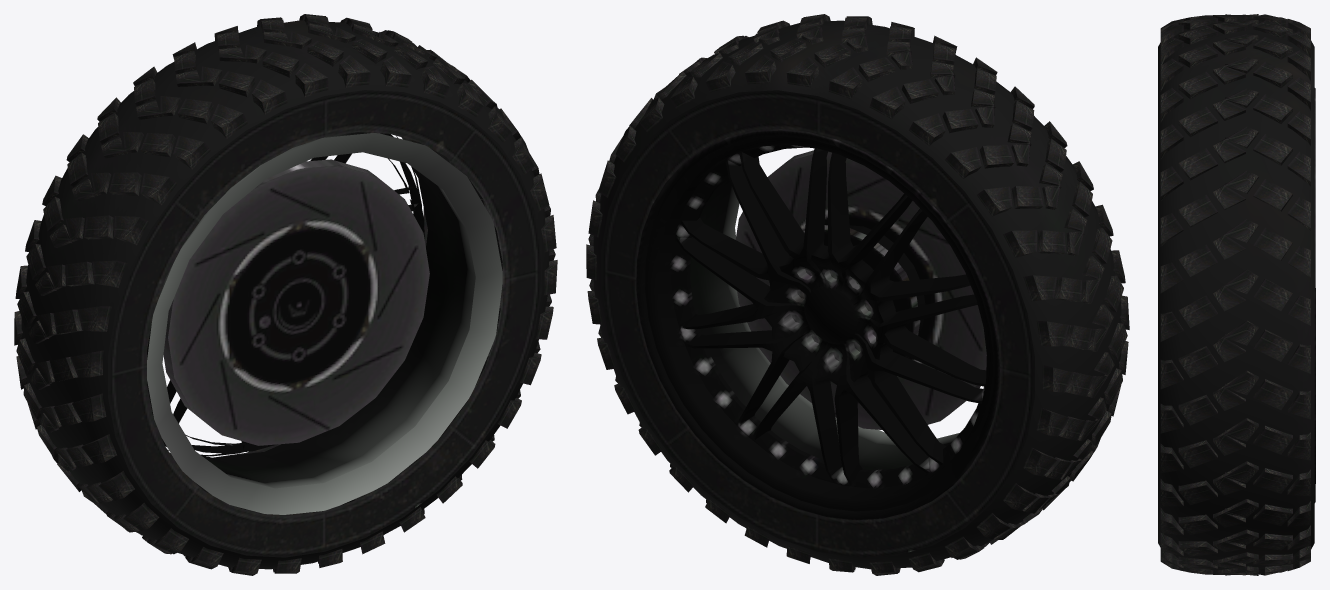
File: wheel.glb
3 renders of one model, left to right at view 1: azimuth 30°, elevation 25°; view 2: azimuth 150°, elevation 25°; view 3: azimuth 270°, elevation 25°, orthographic.
Visible parts, largest first — view 1: BL_Real Car 22_Body_0; view 2: BL_Real Car 22_Body_0; view 3: BL_Real Car 22_Body_0.
Boxes of the visible parts, x1,y1,x2,y2 form: BL_Real Car 22_Body_0: [14, 14, 557, 575]; BL_Real Car 22_Body_0: [586, 14, 1129, 575]; BL_Real Car 22_Body_0: [1158, 14, 1315, 575].
Bounding box in the file's own units: 1.01 × 1.01 × 0.2847.
Materials: 1 (1 with a texture image).
